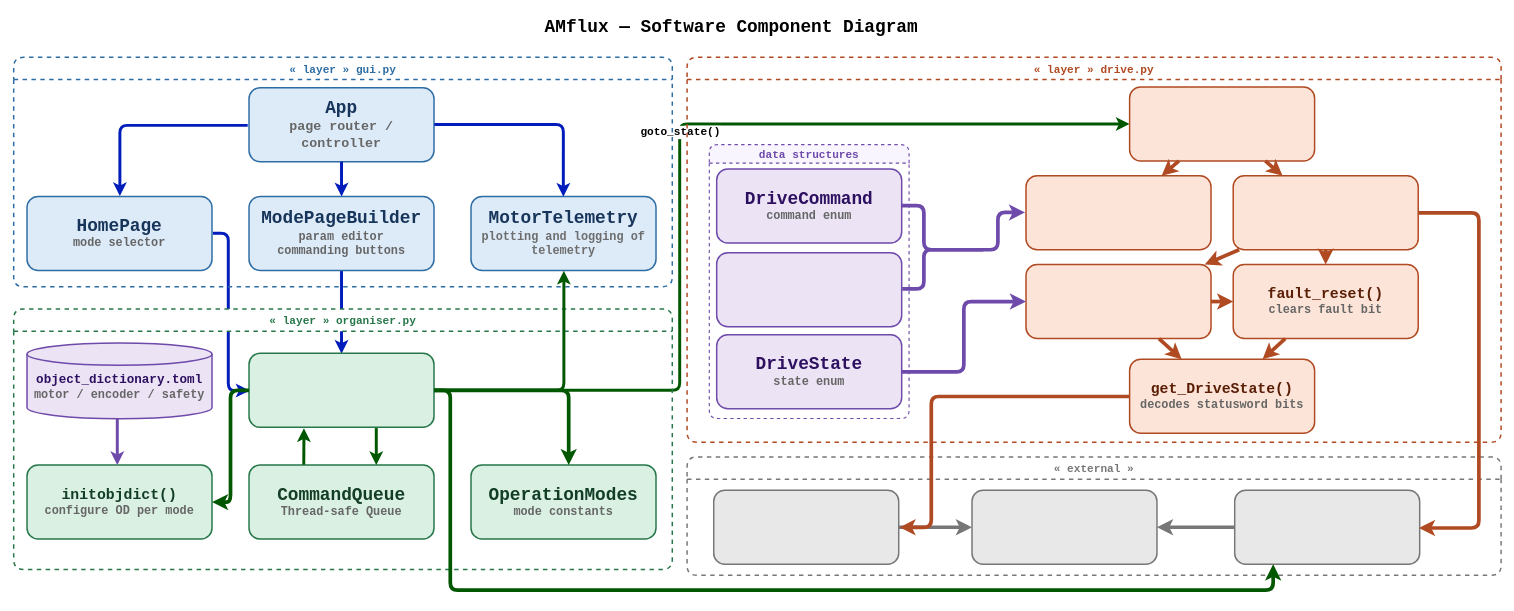
The diagram is 1514 pixels wide and 611 high, and some of its shapes have lost their labels. Each missing label, with the centre of its shape:
"can_functions cword_r/w · sword" belongs at pixel 806 527.
"do_DriveCommand() writes controlword" belongs at pixel 1325 212.
"DriveOrganiser lifecycle manager" belongs at pixel 341 390.
"DriveState_BFS() finds transition path" belongs at pixel 1118 212.
"DriveStateMap transition table" belongs at pixel 809 289.
"EPOS4 Hardware CANopen node" belongs at pixel 1064 527.
"goto_state() BFS path → execute route" belongs at pixel 1221 123.
"objdict_functions SDO / PDO helpers" belongs at pixel 1327 527.
"wait_for_state() polls until target state" belongs at pixel 1118 301.
